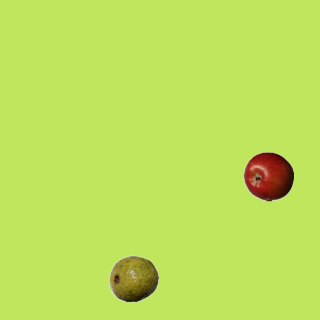Apple Braeburn: (243, 151, 293, 201)
Guava: (108, 253, 158, 303)
